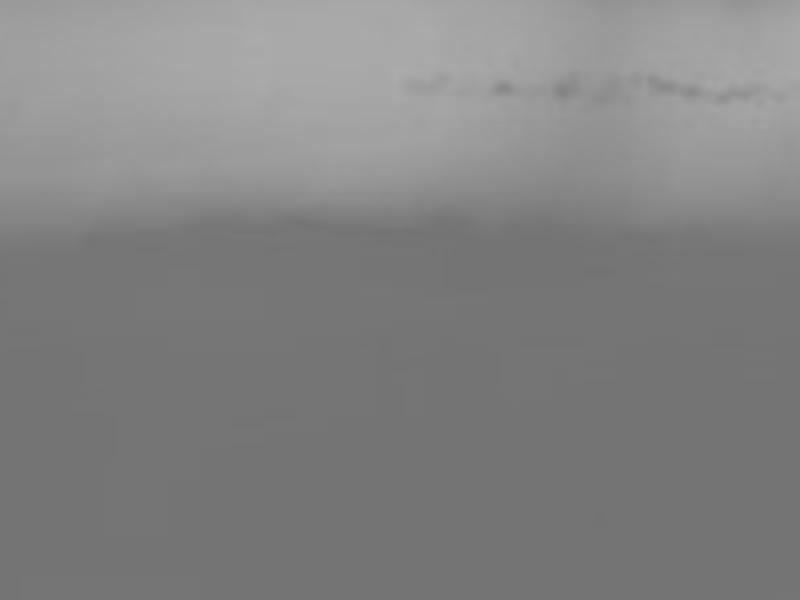defect: (406, 72, 447, 94), (643, 71, 677, 93), (551, 76, 577, 101), (723, 85, 762, 101), (588, 89, 616, 107), (492, 78, 516, 95), (674, 86, 699, 101), (767, 90, 785, 103), (715, 91, 727, 108)
